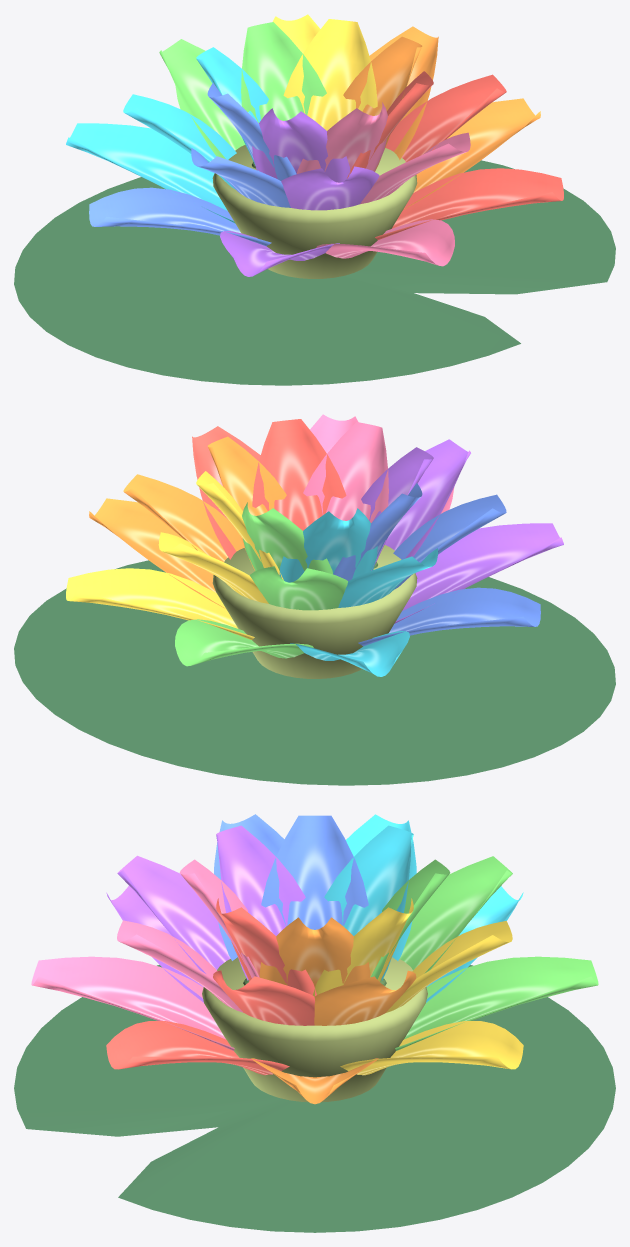
Rendered from Prop_03_幽谷七色彩莲.glb.
The picture shows the model from 3 angles, top to bottom: view 1: azimuth 30°, elevation 25°; view 2: azimuth 150°, elevation 25°; view 3: azimuth 270°, elevation 25°; orthographic projection. The views are drawn at different scales.
Visible parts, largest first — view 1: LilyPad, SeedPod, Petal_R0_5, Petal_R0_1, Petal_R2_3, Petal_R0_6, Petal_R2_4, Petal_R1_1, Petal_R0_2, Petal_R2_7, Petal_R1_4, Petal_R0_0 (+12 smaller); view 2: LilyPad, SeedPod, Petal_R0_7, Petal_R0_3, Petal_R2_1, Petal_R0_6, Petal_R2_0, Petal_R1_2, Petal_R0_2, Petal_R2_5, Petal_R1_7, Petal_R0_4 (+12 smaller); view 3: LilyPad, SeedPod, Petal_R0_4, Petal_R0_0, Petal_R2_6, Petal_R1_4, Petal_R1_7, Petal_R0_1, Petal_R0_3, Petal_R2_7, Petal_R2_5, Petal_R2_2 (+13 smaller).
Part boxes in pixels (x1=…): LilyPad: x1=14, y1=160, x2=615, y2=385; SeedPod: x1=212, y1=145, x2=417, y2=278; Petal_R0_5: x1=66, y1=123, x2=235, y2=223; Petal_R0_1: x1=375, y1=168, x2=563, y2=239; Petal_R2_3: x1=283, y1=19, x2=377, y2=130; Petal_R0_6: x1=89, y1=187, x2=271, y2=246; Petal_R2_4: x1=241, y1=22, x2=326, y2=122; Petal_R1_1: x1=385, y1=74, x2=506, y2=161; Petal_R0_2: x1=403, y1=98, x2=540, y2=209; Petal_R2_7: x1=252, y1=108, x2=350, y2=182; Petal_R1_4: x1=159, y1=39, x2=245, y2=158; Petal_R0_0: x1=316, y1=219, x2=454, y2=266; LilyPad: x1=14, y1=560, x2=615, y2=785; SeedPod: x1=212, y1=545, x2=417, y2=678; Petal_R0_7: x1=394, y1=523, x2=563, y2=623; Petal_R0_3: x1=66, y1=568, x2=254, y2=639; Petal_R2_1: x1=252, y1=419, x2=346, y2=530; Petal_R0_6: x1=358, y1=587, x2=540, y2=646; Petal_R2_0: x1=303, y1=422, x2=388, y2=522; Petal_R1_2: x1=123, y1=474, x2=244, y2=562; Petal_R0_2: x1=89, y1=498, x2=225, y2=608; Petal_R2_5: x1=279, y1=508, x2=377, y2=582; Petal_R1_7: x1=384, y1=439, x2=470, y2=558; Petal_R0_4: x1=175, y1=619, x2=313, y2=666; LilyPad: x1=14, y1=965, x2=615, y2=1232; SeedPod: x1=202, y1=957, x2=427, y2=1102; Petal_R0_4: x1=395, y1=956, x2=598, y2=1050; Petal_R0_0: x1=31, y1=956, x2=234, y2=1050; Petal_R2_6: x1=261, y1=815, x2=368, y2=929; Petal_R1_4: x1=399, y1=856, x2=512, y2=973; Petal_R1_7: x1=117, y1=855, x2=230, y2=973; Petal_R0_1: x1=106, y1=1021, x2=289, y2=1075; Petal_R0_3: x1=340, y1=1021, x2=523, y2=1075; Petal_R2_7: x1=216, y1=825, x2=305, y2=980; Petal_R2_5: x1=324, y1=825, x2=413, y2=980; Petal_R2_2: x1=259, y1=917, x2=370, y2=987.
Size of the model in its own units: 2.3 by 0.8576 by 2.02.
11 materials, 8 textured.
